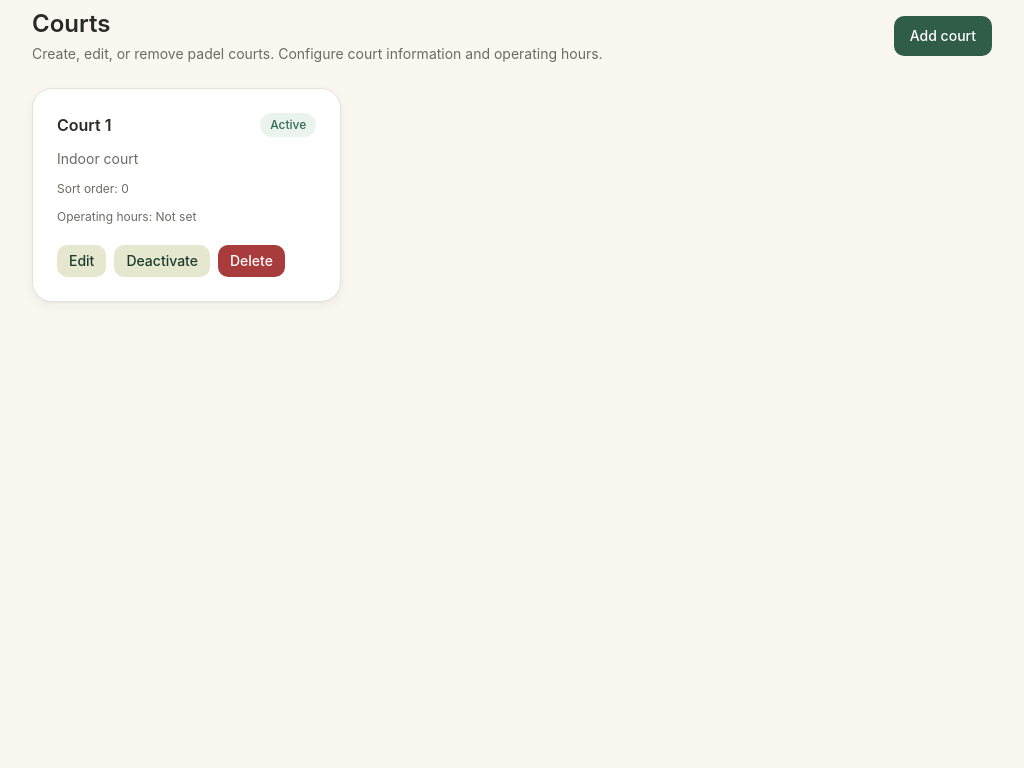
Test: CourtsPage › asks for confirmation before deleting a court
Click the button "Delete": [251, 261] box [218,245,285,277]
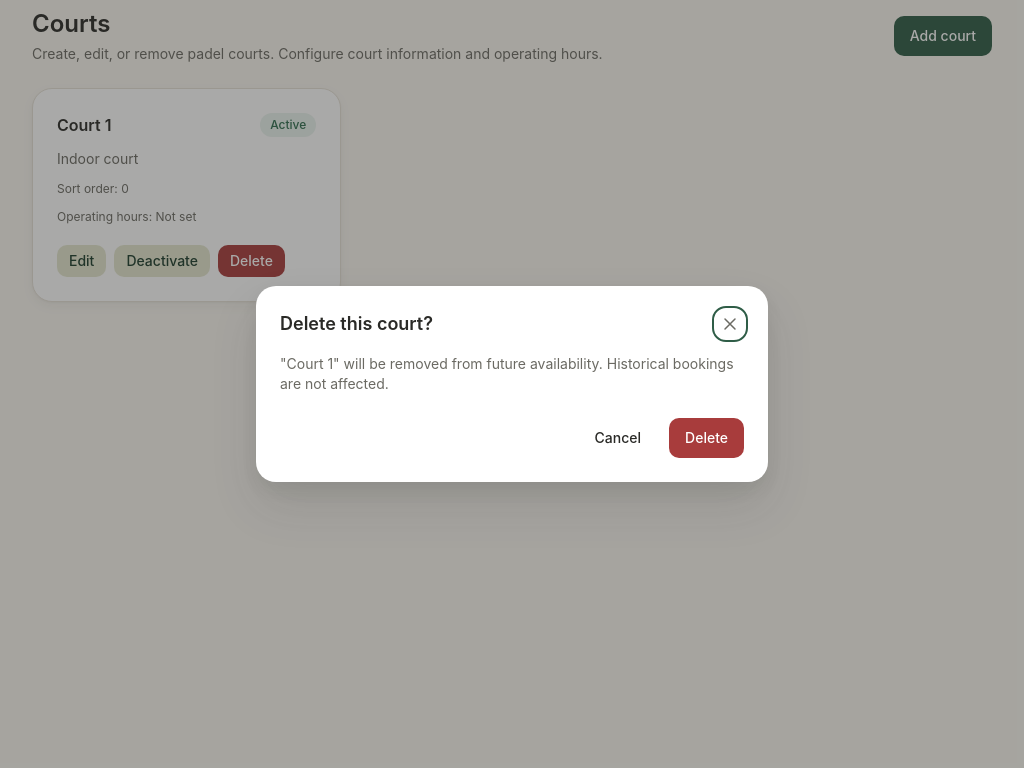
Now the dialog "Delete this court?" is shown, box [256,286,768,482]
